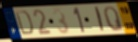1: (72, 7, 87, 35)
2: (33, 9, 53, 37)
3: (53, 7, 70, 35)
D: (14, 10, 35, 37)
I: (95, 6, 106, 34)
Q: (103, 5, 126, 33)
